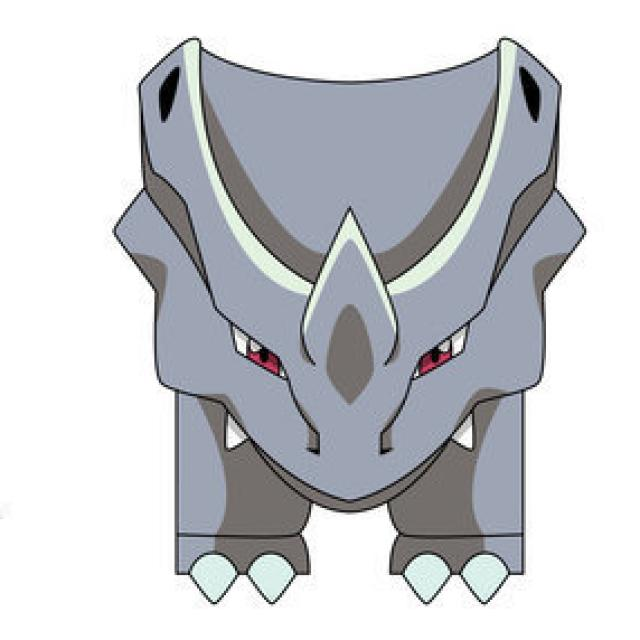Rhyhorn: (90, 41, 598, 619)
